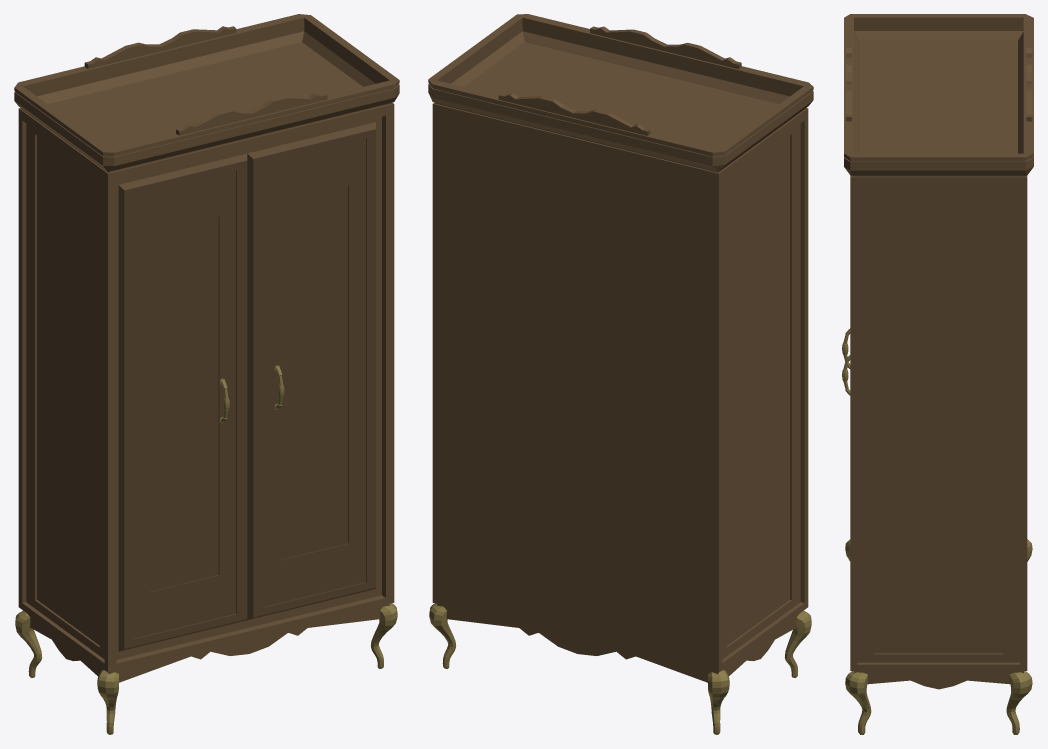
The model's file is cabinet.glb.
3 views of the same model, side by side, from view 1: azimuth 30°, elevation 25°; view 2: azimuth 150°, elevation 25°; view 3: azimuth 270°, elevation 25° (orthographic).
Visible parts, largest first — view 1: Closet_LeftDoor, Closet; view 2: Closet, Closet_LeftDoor; view 3: Closet, Closet_LeftDoor.
Part boxes in pixels (bbox=[...]): Closet_LeftDoor: bbox=[15, 122, 397, 734]; Closet: bbox=[14, 14, 399, 682]; Closet: bbox=[428, 14, 813, 682]; Closet_LeftDoor: bbox=[429, 603, 811, 734]; Closet: bbox=[844, 14, 1033, 689]; Closet_LeftDoor: bbox=[842, 328, 1032, 734].
Bounding box in the file's own units: 1.55 × 2.98 × 0.87.
